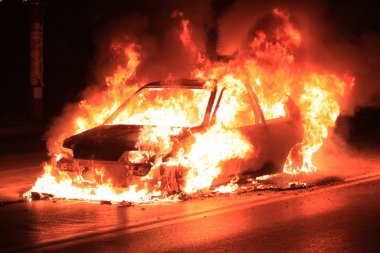fire: (282, 69, 348, 175), (31, 161, 171, 210), (186, 121, 242, 197), (112, 94, 213, 129), (214, 56, 271, 114), (57, 81, 106, 131)
